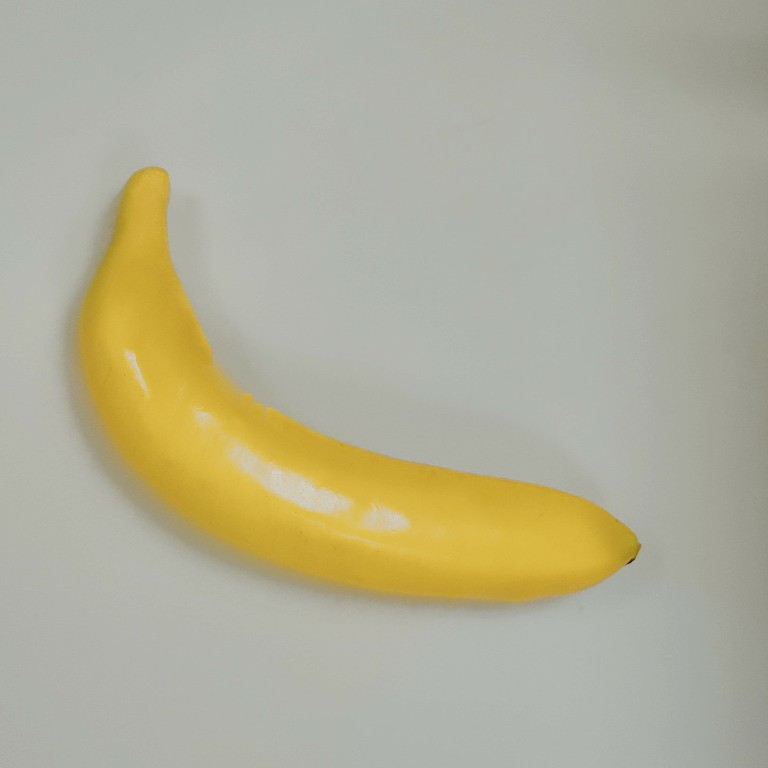fruit_banana: (57, 159, 654, 616)
